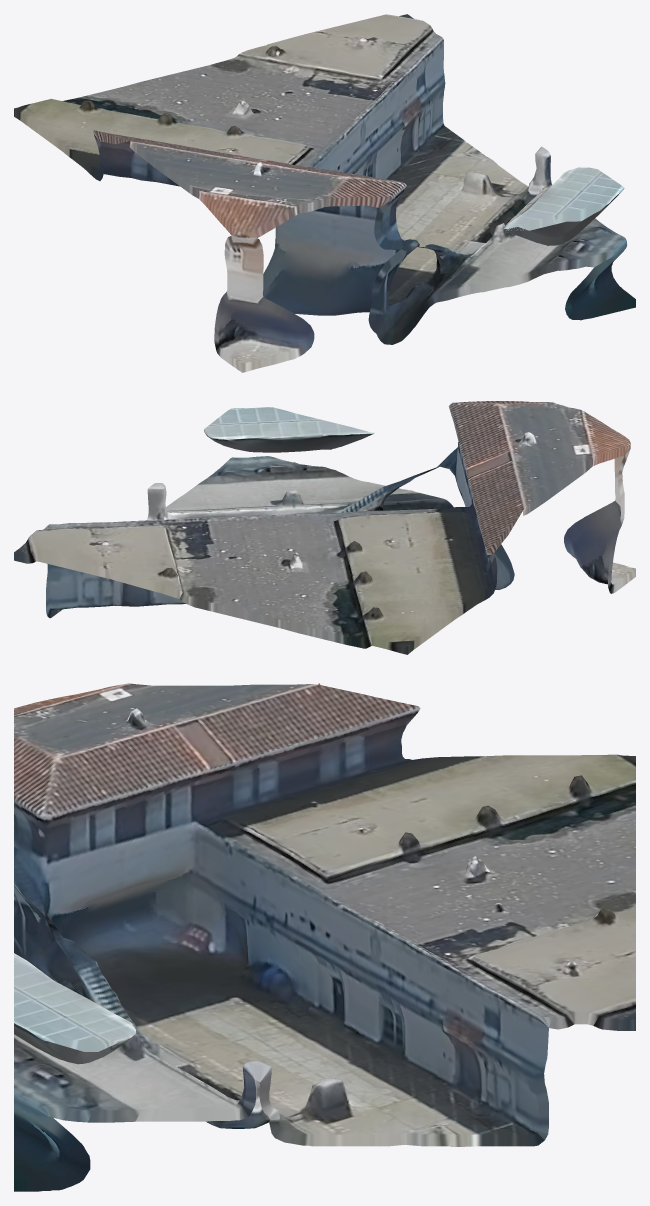
The model's file is z20-167795-405225-h0-yup-uvflip-v3-world.glb.
The picture shows the model from 3 angles, top to bottom: view 1: azimuth 30°, elevation 25°; view 2: azimuth 150°, elevation 25°; view 3: azimuth 270°, elevation 25°; orthographic projection. The views are drawn at different scales.
Bounding box in the file's own units: 30.16 × 14.12 × 30.32.
Materials: 1 (1 with a texture image).
